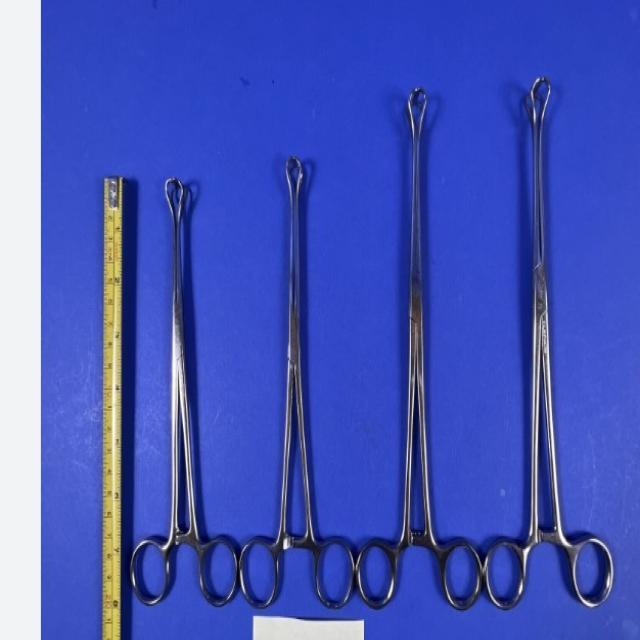Babcock Forceps: (484, 70, 628, 618), (358, 78, 484, 616), (242, 146, 356, 612), (126, 173, 242, 614)
